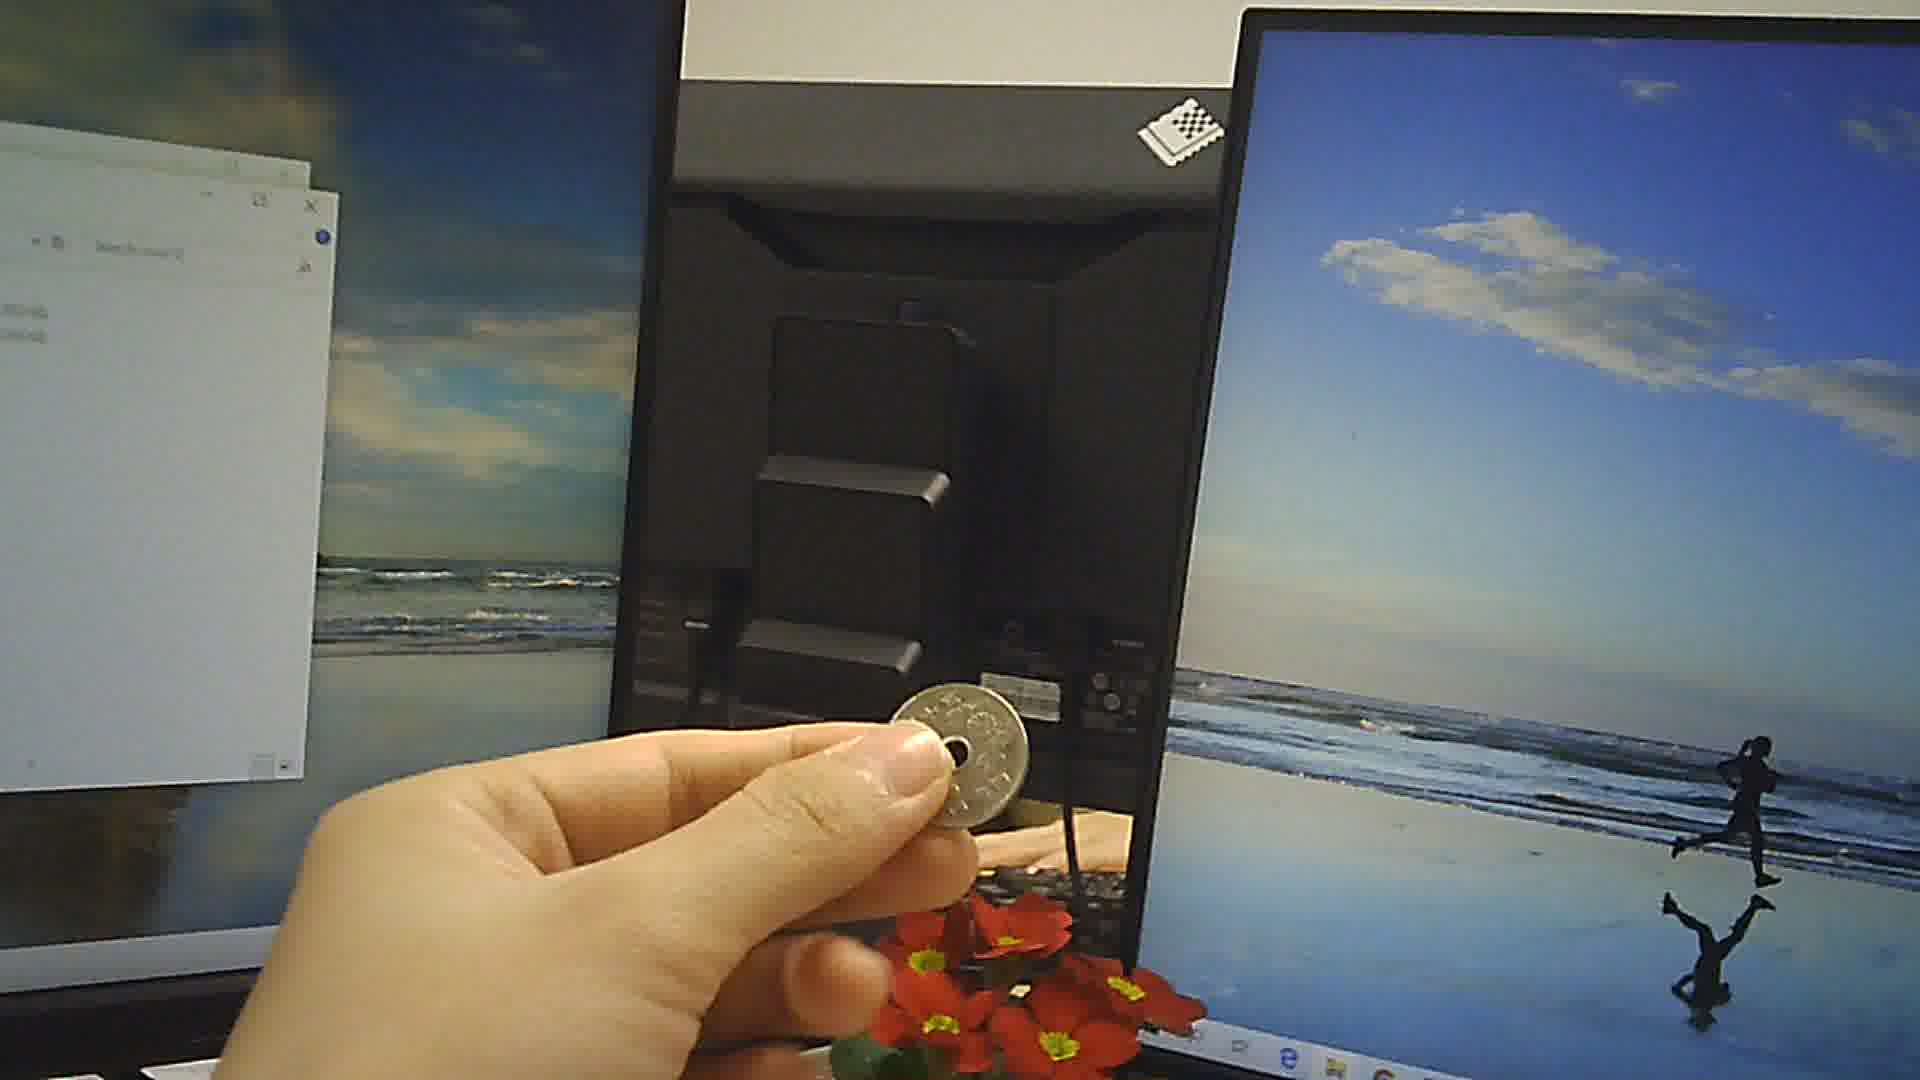50 Yen: (882, 671, 1030, 832)
